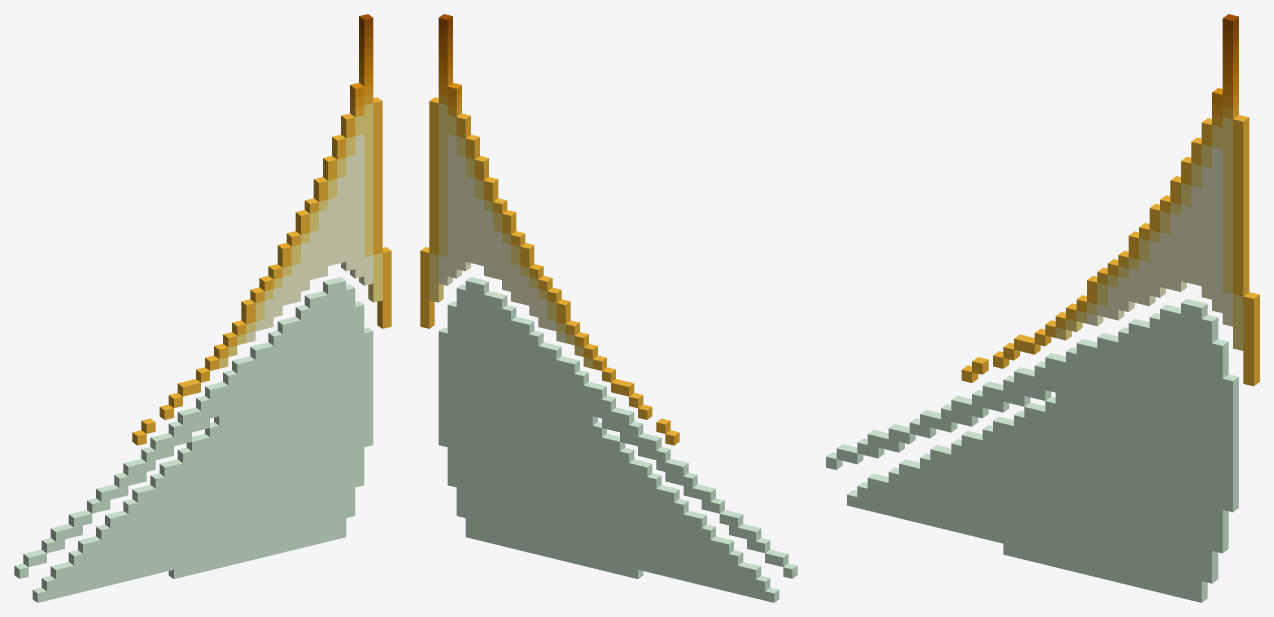
File: Fight_702_2_06_fx.obj
3 renders of one model, left to right at view 1: azimuth 30°, elevation 25°; view 2: azimuth 150°, elevation 25°; view 3: azimuth 330°, elevation 25°, orthographic. The views are drawn at different scales.
Size of the model in its own units: 4.1 by 5.4 by 0.1.
